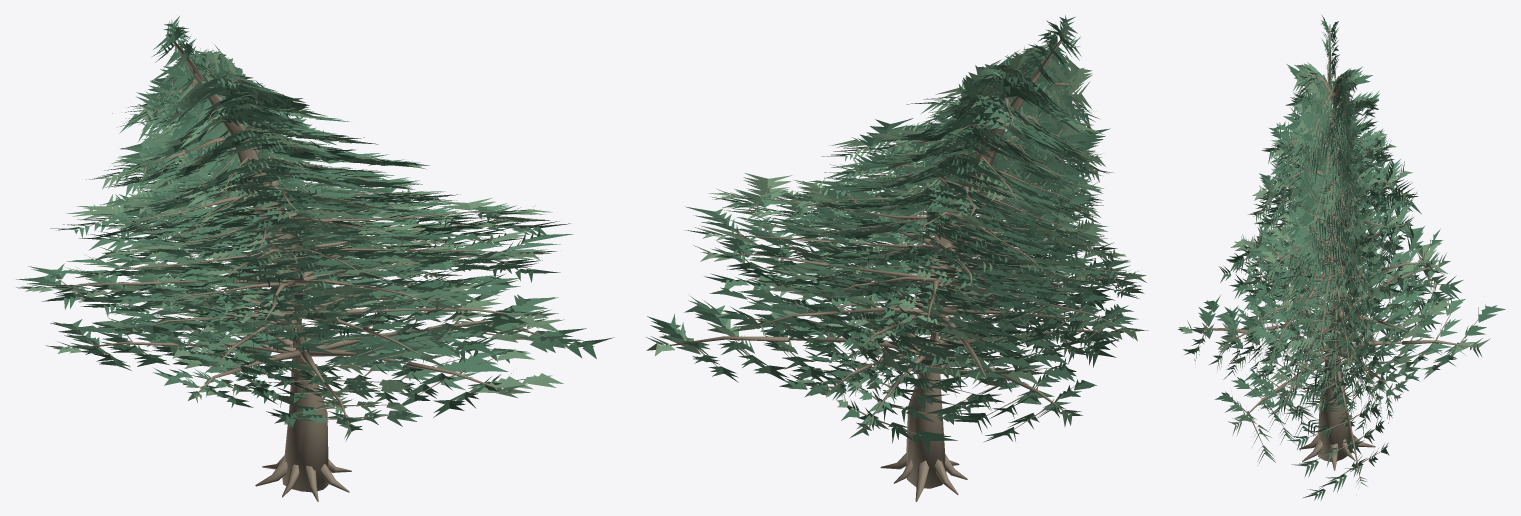
Rendered from cedar_2.glb.
3 views of the same model, side by side, from view 1: azimuth 30°, elevation 25°; view 2: azimuth 150°, elevation 25°; view 3: azimuth 270°, elevation 25° (orthographic). The views are drawn at different scales.
Visible parts, largest first — view 1: tree_conifer_ConiferLeaf, tree_conifer_ConiferLeafLight, tree_conifer_ConiferLeafDark, tree_conifer_ConiferBark; view 2: tree_conifer_ConiferLeaf, tree_conifer_ConiferLeafLight, tree_conifer_ConiferLeafDark, tree_conifer_ConiferBark; view 3: tree_conifer_ConiferLeaf, tree_conifer_ConiferLeafLight, tree_conifer_ConiferLeafDark, tree_conifer_ConiferBark.
Boxes of the visible parts, x1=… form: tree_conifer_ConiferLeaf: x1=16, y1=16, x2=586, y2=426; tree_conifer_ConiferLeafLight: x1=16, y1=44, x2=564, y2=441; tree_conifer_ConiferLeafDark: x1=79, y1=52, x2=614, y2=427; tree_conifer_ConiferBark: x1=42, y1=33, x2=577, y2=501; tree_conifer_ConiferLeaf: x1=650, y1=15, x2=1141, y2=442; tree_conifer_ConiferLeafLight: x1=646, y1=45, x2=1148, y2=438; tree_conifer_ConiferLeafDark: x1=647, y1=47, x2=1130, y2=455; tree_conifer_ConiferBark: x1=666, y1=30, x2=1127, y2=501; tree_conifer_ConiferLeaf: x1=1183, y1=15, x2=1466, y2=493; tree_conifer_ConiferLeafLight: x1=1178, y1=62, x2=1490, y2=486; tree_conifer_ConiferLeafDark: x1=1204, y1=64, x2=1505, y2=500; tree_conifer_ConiferBark: x1=1189, y1=24, x2=1479, y2=489.
Bounding box in the file's own units: 13.33 × 11.56 × 8.91.
